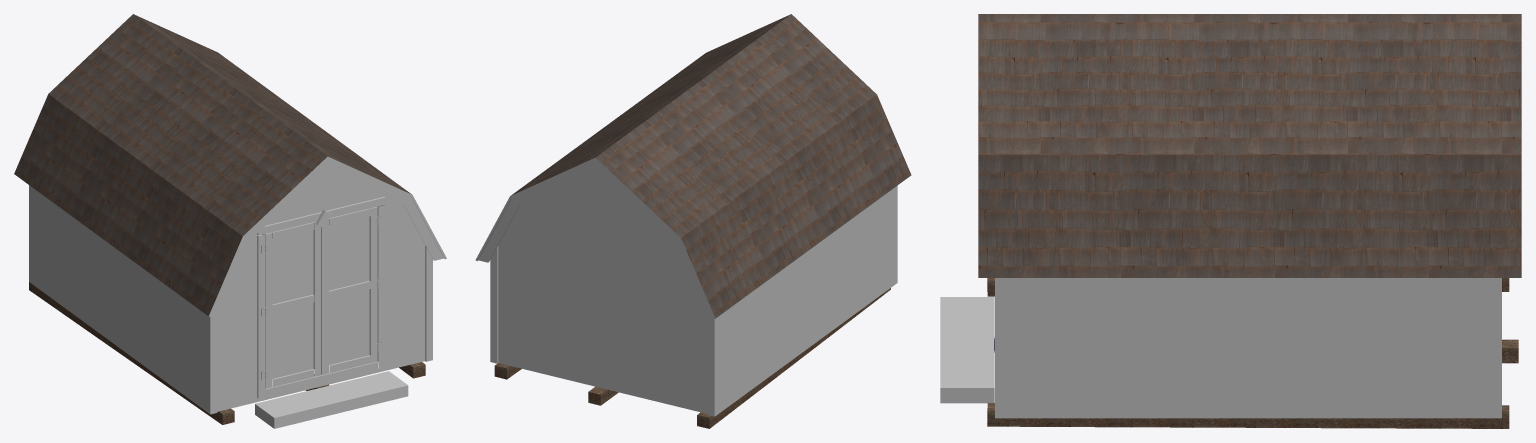
Rendered from Shed03.dae.
The picture shows the model from 3 angles, left to right: view 1: azimuth 30°, elevation 25°; view 2: azimuth 150°, elevation 25°; view 3: azimuth 270°, elevation 25°; orthographic projection. The views are drawn at different scales.
Visible parts, largest first — view 1: SketchUp (×4), group_9 (×2), group_0, instance_6 (×2), group_1, instance_7 (×2), instance_8, group_5, group_6; view 2: SketchUp (×2), instance_7 (×2), group_1, group_7, instance_8, group_8; view 3: SketchUp (×2), group_0, group_3.
Boxes of the visible parts, left/top/right/bottom form: SketchUp (×4): left=14, top=14, right=446, bottom=413; group_9 (×2): left=265, top=207, right=377, bottom=388; group_0: left=255, top=371, right=408, bottom=428; instance_6 (×2): left=257, top=205, right=385, bottom=398; group_1: left=29, top=282, right=234, bottom=424; instance_7 (×2): left=211, top=196, right=443, bottom=315; instance_8: left=326, top=159, right=409, bottom=202; group_5: left=209, top=314, right=217, bottom=414; group_6: left=425, top=246, right=432, bottom=361; SketchUp (×2): left=475, top=14, right=911, bottom=415; instance_7 (×2): left=478, top=197, right=712, bottom=317; group_1: left=697, top=288, right=890, bottom=428; group_7: left=490, top=245, right=498, bottom=363; instance_8: left=513, top=160, right=596, bottom=204; group_8: left=707, top=316, right=715, bottom=416; SketchUp (×2): left=978, top=14, right=1521, bottom=418; group_0: left=940, top=297, right=994, bottom=403; group_3: left=987, top=403, right=1509, bottom=428.
Size of the model in its own units: 103 by 155 by 101.
